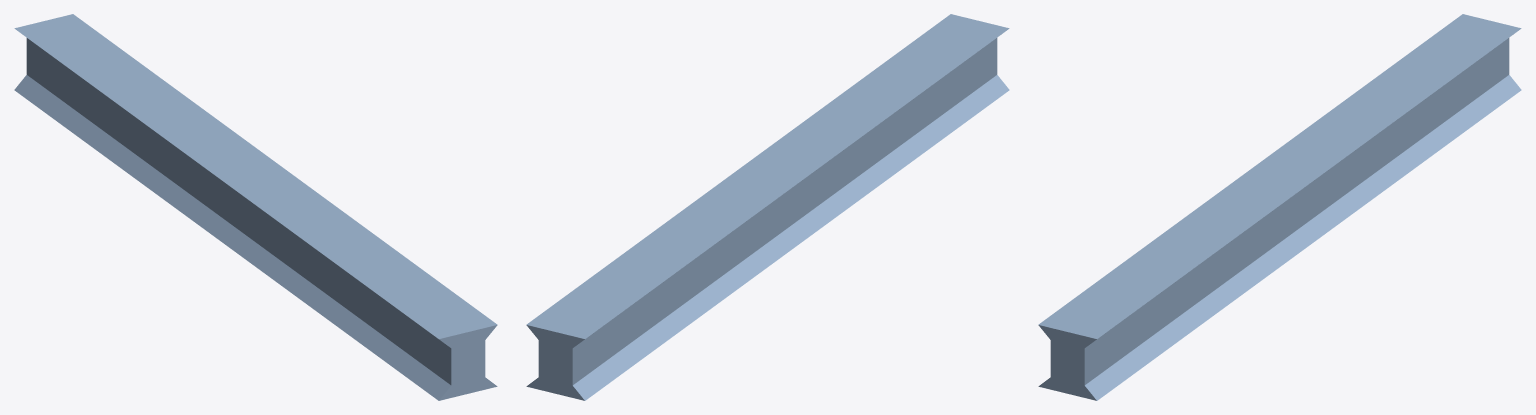
File: metalbar.fbx
The picture shows the model from 3 angles, left to right: view 1: azimuth 30°, elevation 25°; view 2: azimuth 150°, elevation 25°; view 3: azimuth 330°, elevation 25°; orthographic projection.
Parts seen in each view (by area): view 1: Cube; view 2: Cube; view 3: Cube.
Boxes of the visible parts, bbox=[...] form: Cube: bbox=[14, 14, 497, 400]; Cube: bbox=[526, 14, 1009, 400]; Cube: bbox=[1038, 14, 1521, 400].
Bounding box in the file's own units: 200 × 200 × 2493.
